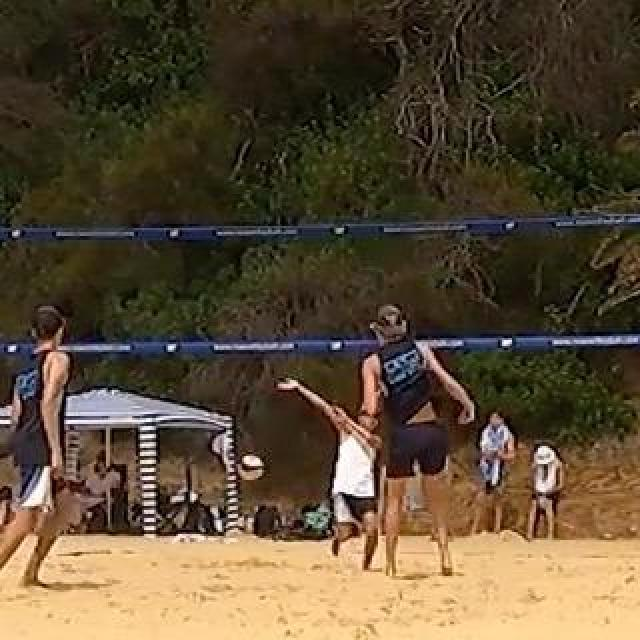volleyball: (238, 455, 264, 481)
